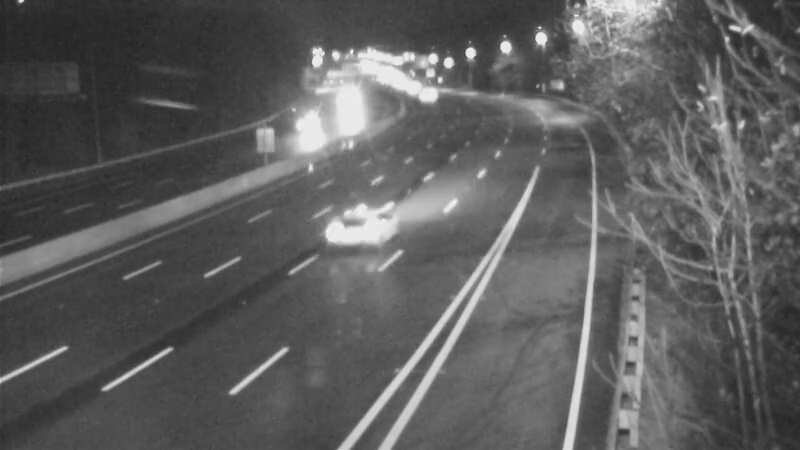vehicle: (315, 191, 395, 271), (403, 65, 453, 115), (285, 105, 335, 155)
